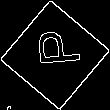P_W: (28, 34, 82, 76)
